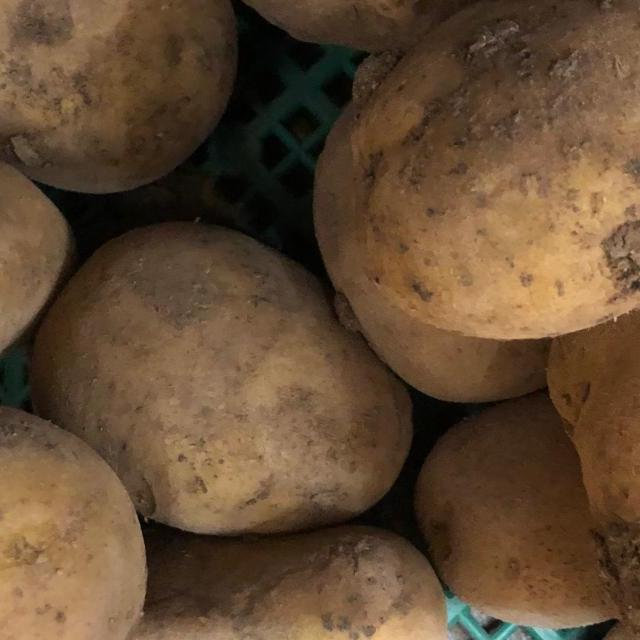potato: (28, 192, 450, 535), (292, 0, 640, 355), (0, 0, 255, 205), (0, 372, 155, 640)
